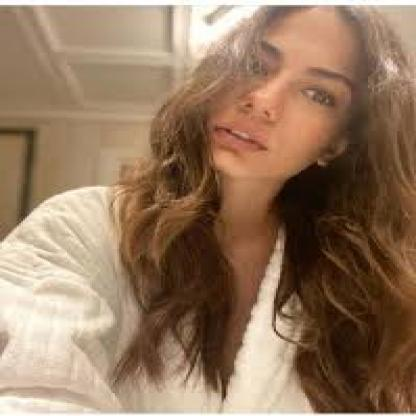person: (203, 12, 390, 202)
